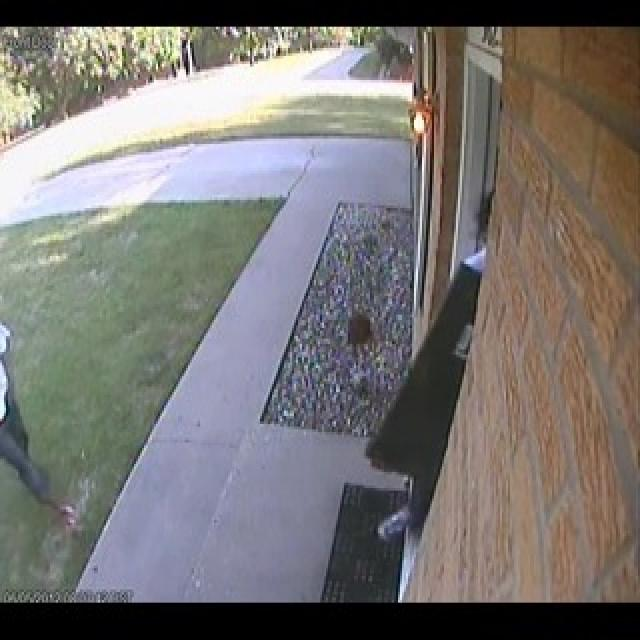burglary: (389, 220, 520, 518)
